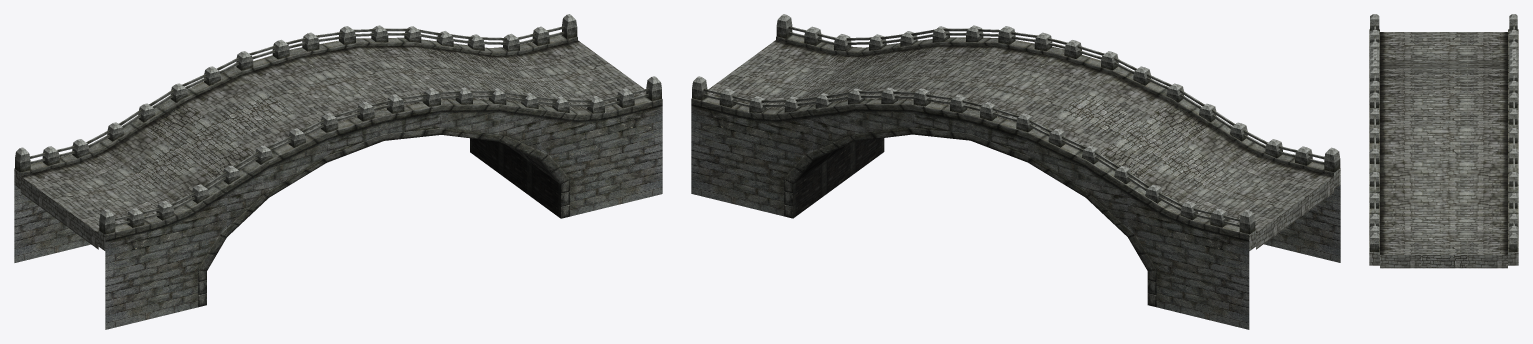
The model's file is ep-024-10m-bridge.fbx.
3 renders of one model, left to right at view 1: azimuth 30°, elevation 25°; view 2: azimuth 150°, elevation 25°; view 3: azimuth 270°, elevation 25°, orthographic. The views are drawn at different scales.
Visible parts, largest first — view 1: ep-024-10m-bridge; view 2: ep-024-10m-bridge; view 3: ep-024-10m-bridge.
Part boxes in pixels (x1,y1,x2,y2): ep-024-10m-bridge: (14,14,662,329); ep-024-10m-bridge: (691,14,1340,329); ep-024-10m-bridge: (1369,14,1518,268).
Size of the model in its own units: 28.93 by 7.94 by 8.19.
